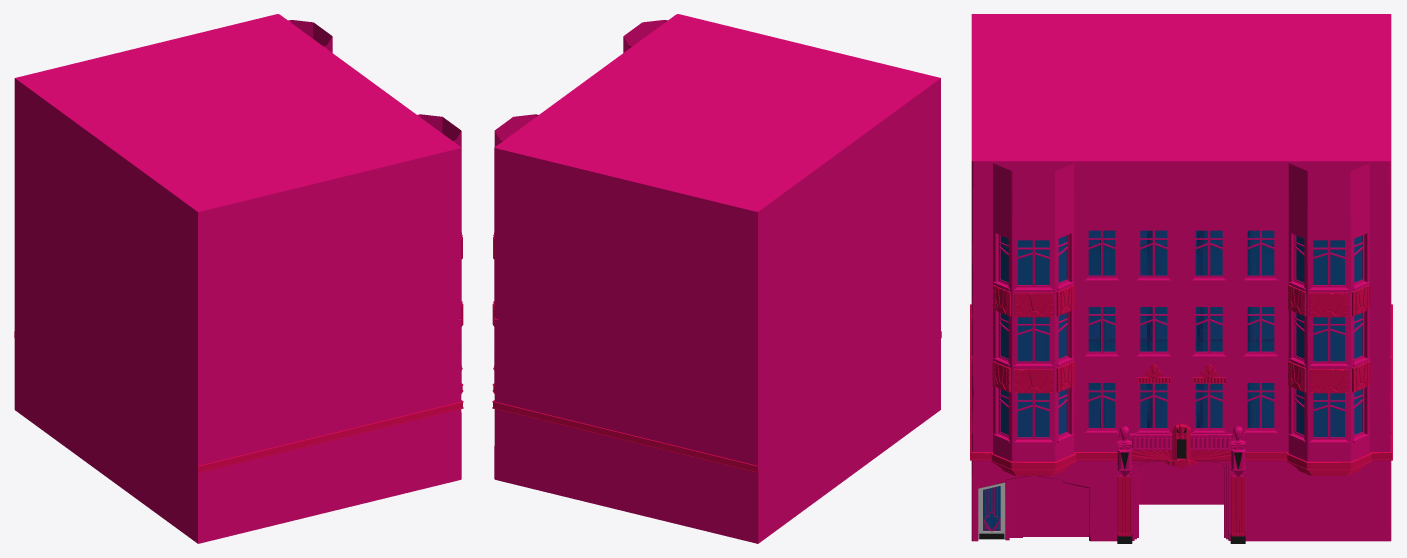
The model's file is Building_Apartment03.fbx.
3 views of the same model, side by side, from view 1: azimuth 30°, elevation 25°; view 2: azimuth 150°, elevation 25°; view 3: azimuth 270°, elevation 25° (orthographic). The views are drawn at different scales.
Visible parts, largest first — view 1: SM_City_Building_Apartment_05.mo; view 2: SM_City_Building_Apartment_05.mo; view 3: SM_City_Building_Apartment_05.mo.
Boxes of the visible parts, box(x1,y1,x2,y2) form: SM_City_Building_Apartment_05.mo: box(14, 14, 463, 543); SM_City_Building_Apartment_05.mo: box(492, 14, 941, 543); SM_City_Building_Apartment_05.mo: box(970, 14, 1392, 543).
Bounding box in the file's own units: 1528 × 1711 × 1725.
